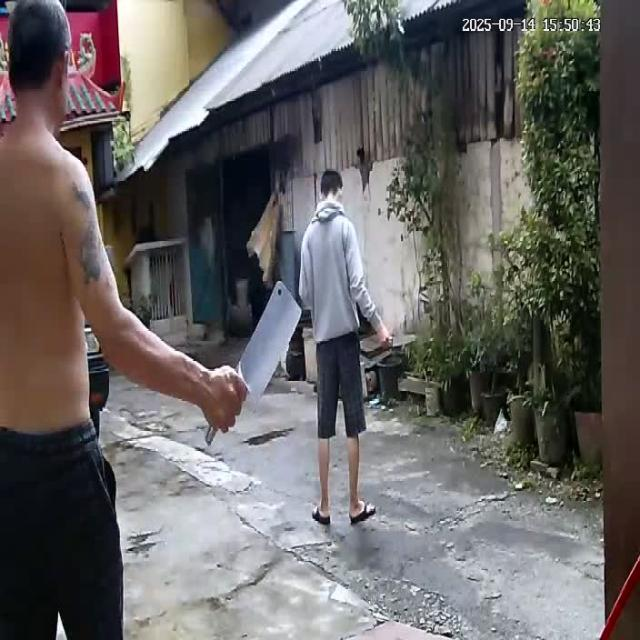senjata_tajam: (234, 275, 304, 407), (391, 330, 419, 351)
